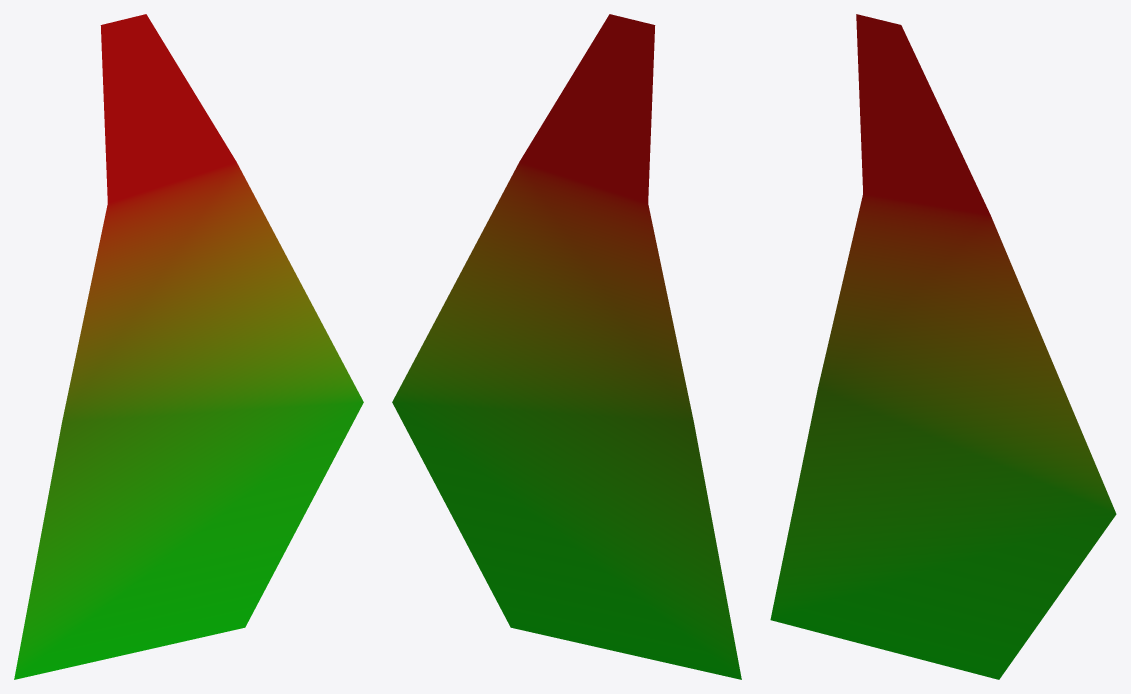
Rendered from Willowherb_LOD4_Var3_tbfpbbhr.fbx.
3 renders of one model, left to right at view 1: azimuth 30°, elevation 25°; view 2: azimuth 150°, elevation 25°; view 3: azimuth 330°, elevation 25°, orthographic.
Parts seen in each view (by area): view 1: _64b3_Var3_LOD4; view 2: _64b3_Var3_LOD4; view 3: _64b3_Var3_LOD4.
Part boxes in pixels (x1,y1,x2,y2): _64b3_Var3_LOD4: (14,14,363,679); _64b3_Var3_LOD4: (392,14,741,679); _64b3_Var3_LOD4: (770,14,1116,679).
Bounding box in the file's own units: 10.41 × 18.14 × 7.45e-06.
